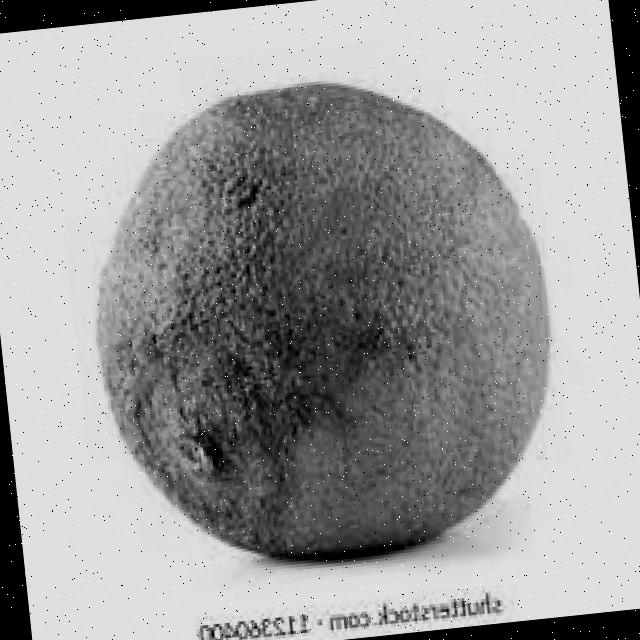overripe: (65, 57, 576, 590)
